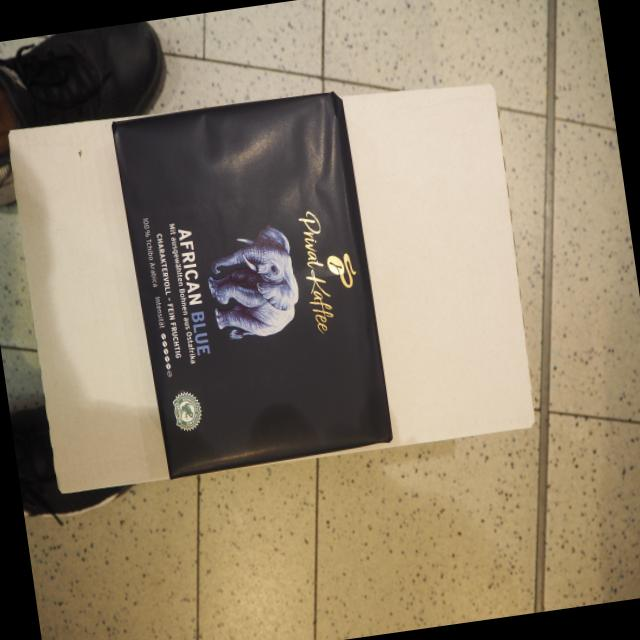AB Gemahlen: (109, 88, 397, 484)
